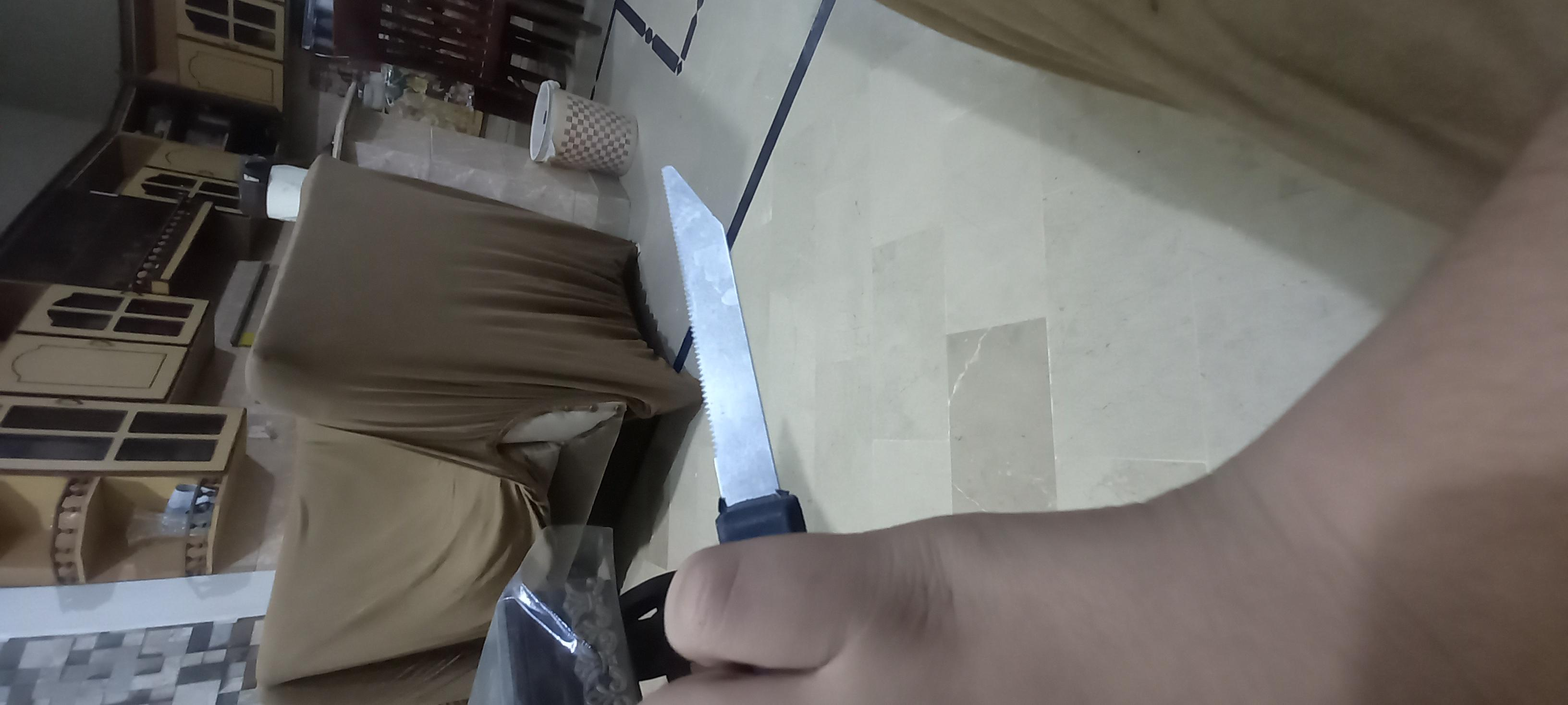knives: (143, 288, 1260, 361)
